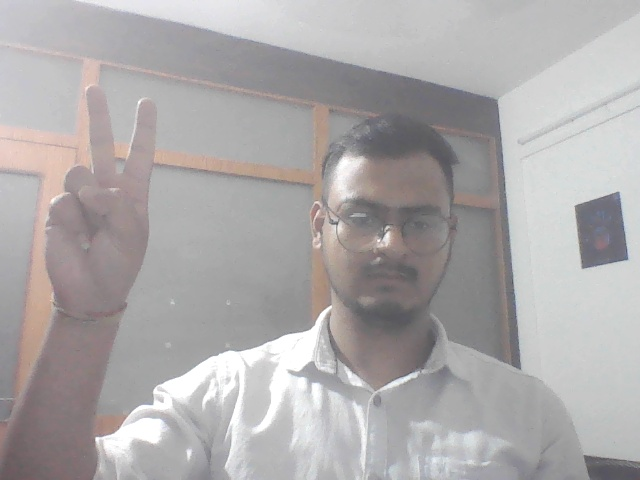Peace: (27, 80, 166, 319)
